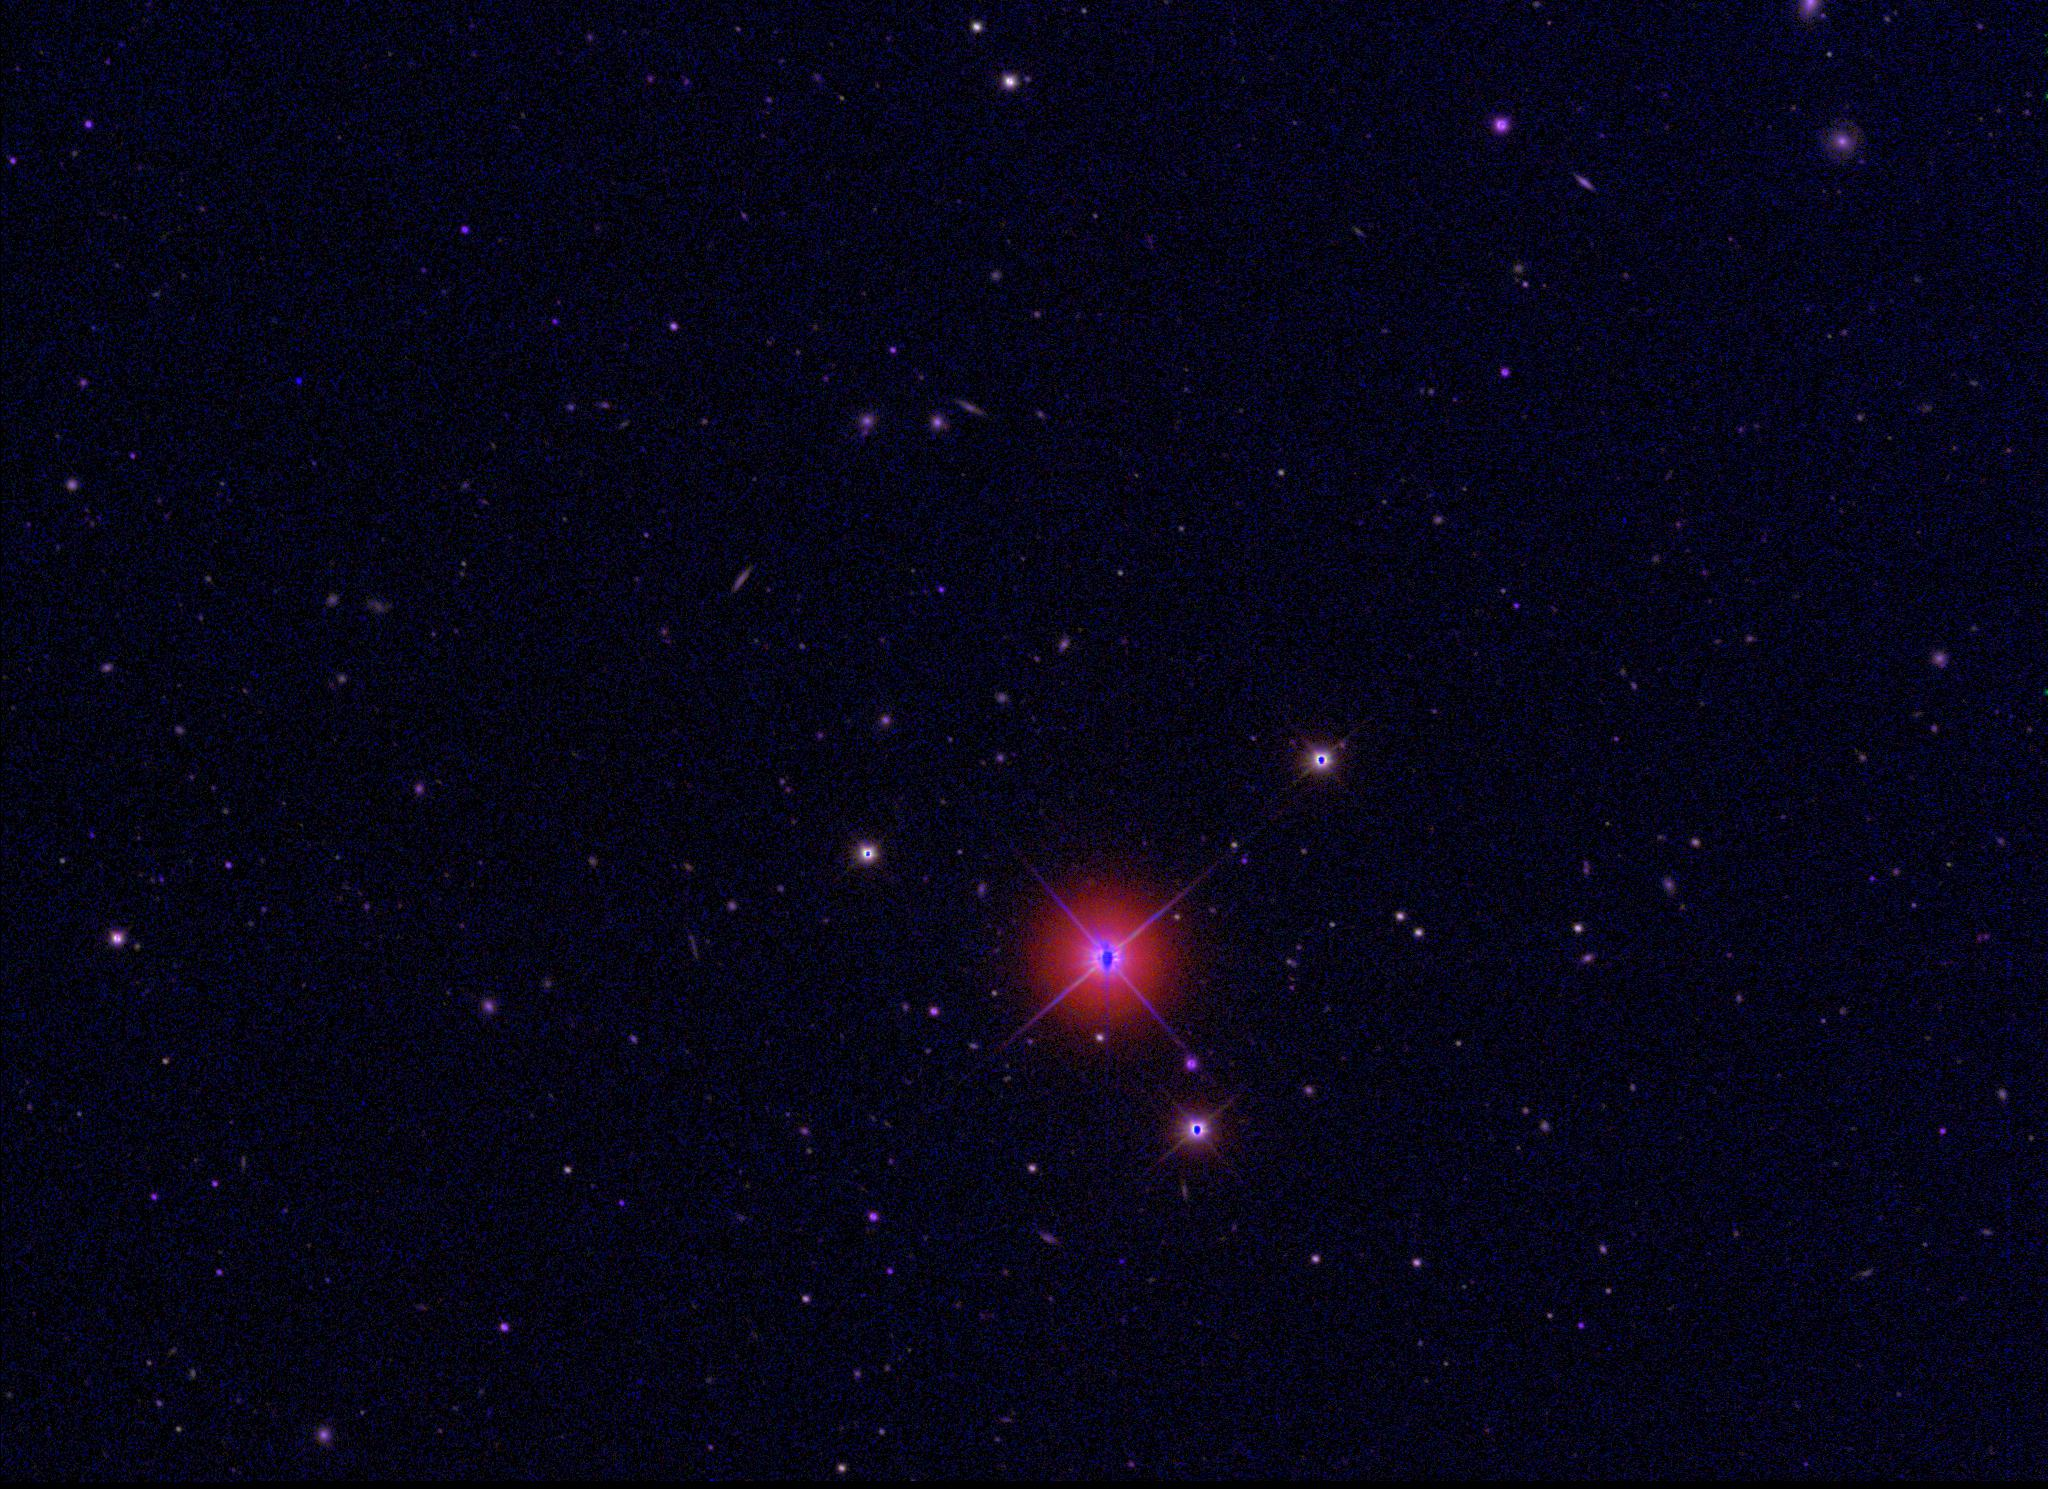L: (291, 372, 305, 387)
